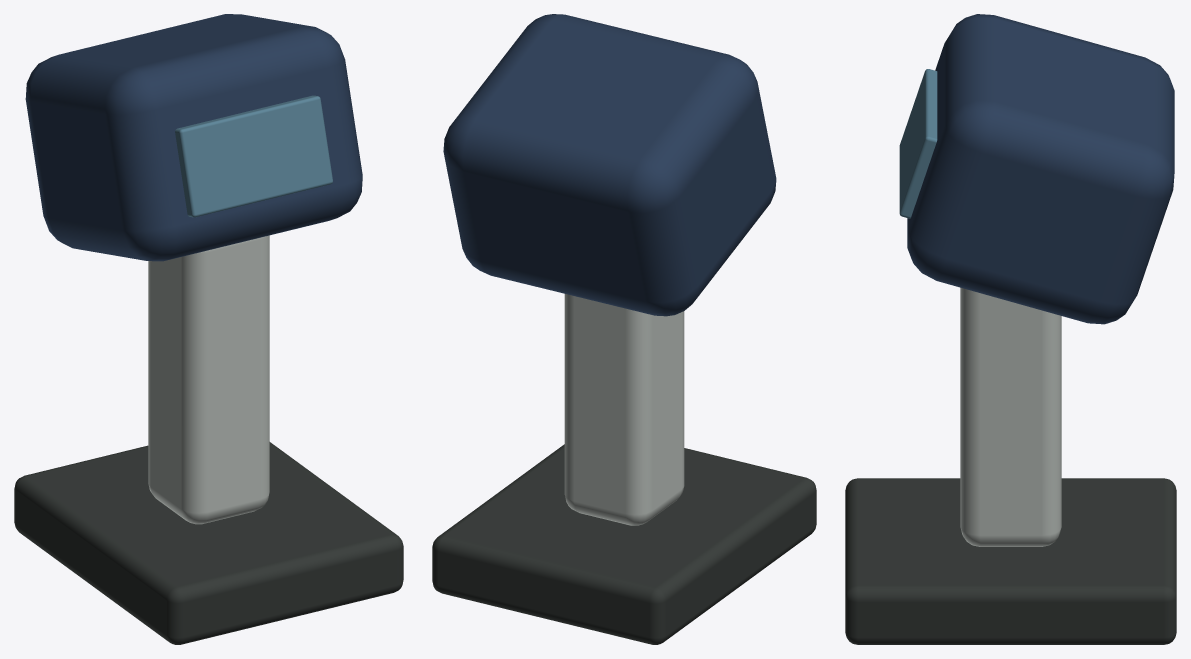
Rendered from planetarium-and-optical-observatory-ticket-scanner-4d040cd1__31836.glb.
3 views of the same model, side by side, from view 1: azimuth 30°, elevation 25°; view 2: azimuth 150°, elevation 25°; view 3: azimuth 270°, elevation 25° (orthographic). The views are drawn at different scales.
Visible parts, largest first — view 1: ticket-scanner; view 2: ticket-scanner; view 3: ticket-scanner.
Part boxes in pixels (box(x1,y1,x2,y2)): ticket-scanner: box(14, 14, 403, 644); ticket-scanner: box(432, 14, 816, 644); ticket-scanner: box(845, 14, 1176, 644).
Bounding box in the file's own units: 0.15 × 0.3185 × 0.18.
